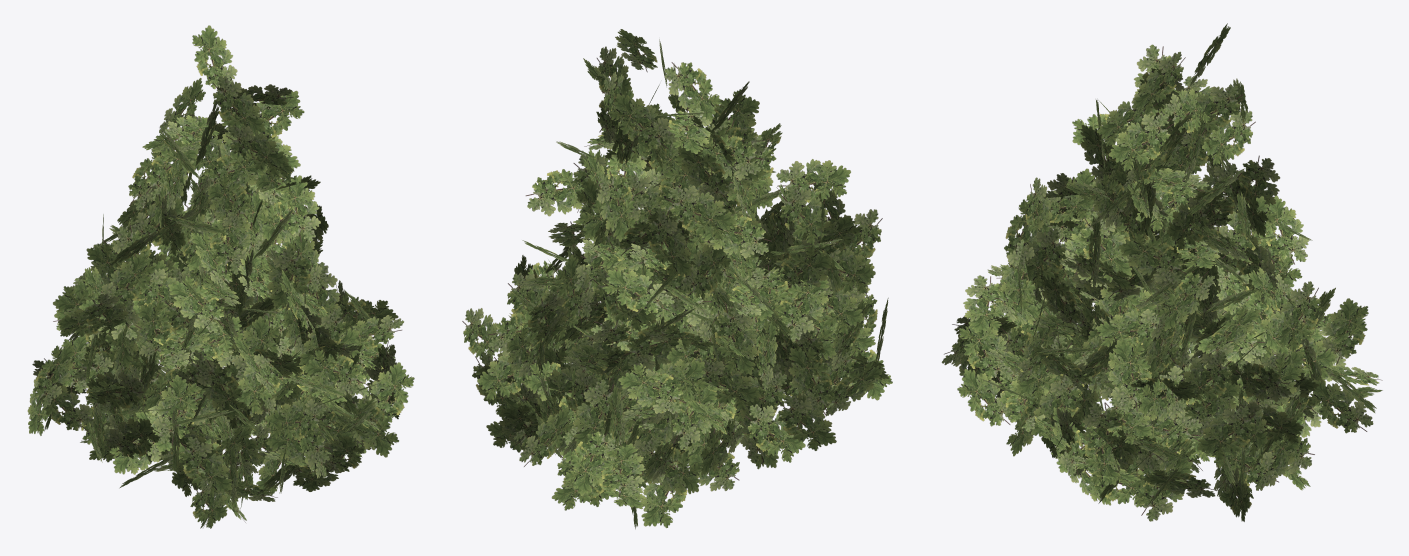
Rendered from tree92.glb.
3 views of the same model, side by side, from view 1: azimuth 30°, elevation 25°; view 2: azimuth 150°, elevation 25°; view 3: azimuth 270°, elevation 25° (orthographic). The views are drawn at different scales.
Visible parts, largest first — view 1: Cube; view 2: Cube; view 3: Cube.
Boxes of the visible parts, bbox=[...] form: Cube: bbox=[27, 25, 414, 528]; Cube: bbox=[462, 29, 892, 529]; Cube: bbox=[941, 23, 1382, 521].
Bounding box in the file's own units: 6.87 × 8.48 × 7.18.
1 material, 1 textured.
